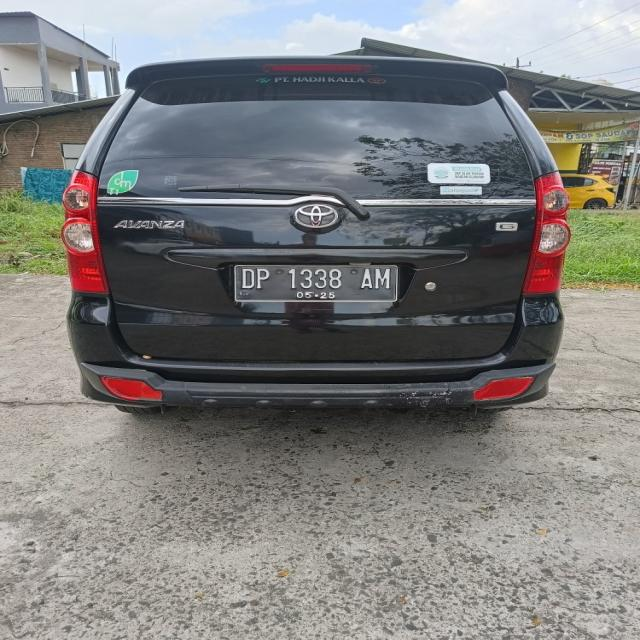plates: (228, 256, 412, 312)
